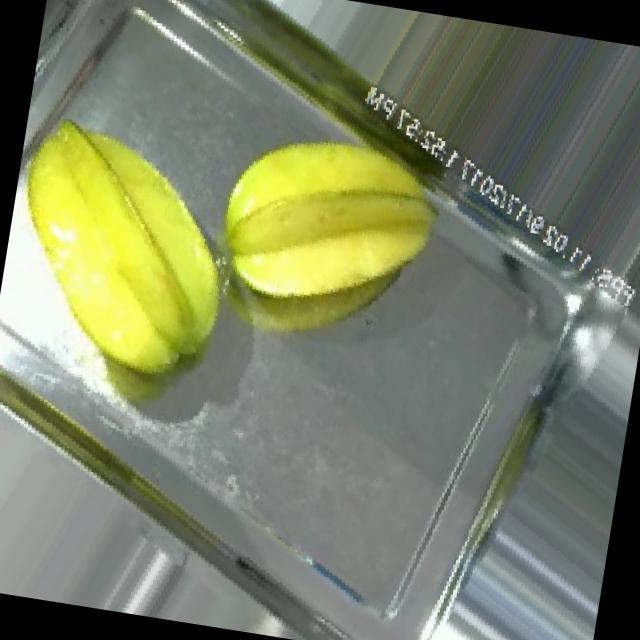fruit: (0, 91, 289, 426), (169, 72, 476, 384)
